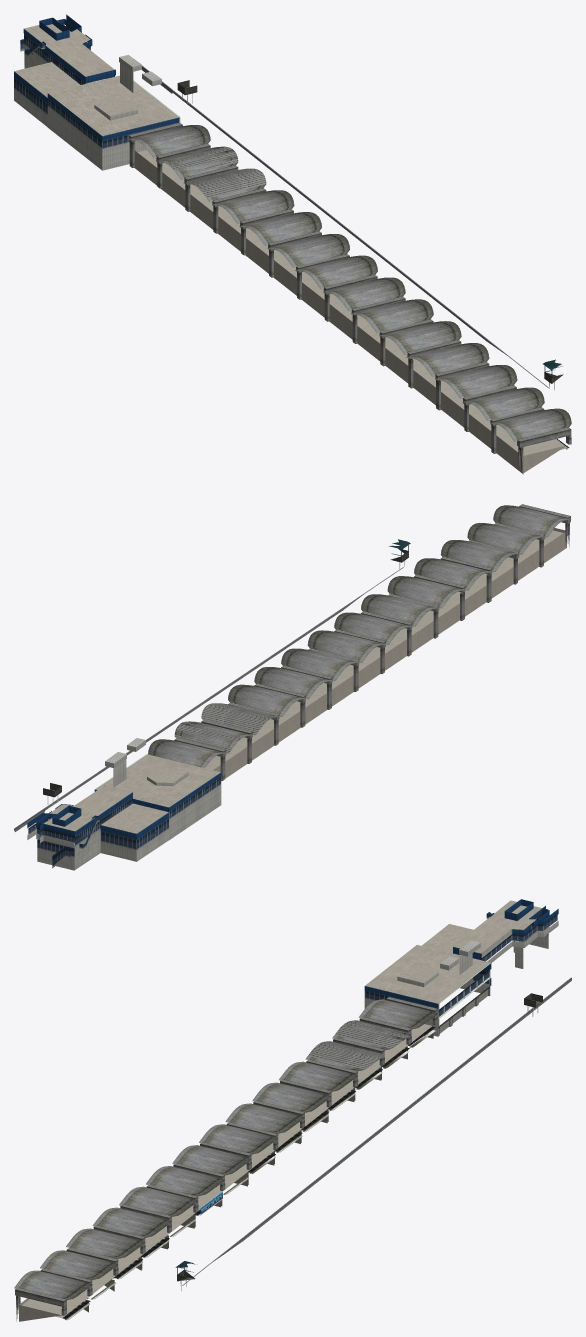
The model's file is pit_garages.glb.
The picture shows the model from 3 angles, top to bottom: view 1: azimuth 30°, elevation 25°; view 2: azimuth 150°, elevation 25°; view 3: azimuth 330°, elevation 25°; orthographic projection. The views are drawn at different scales.
Visible parts, largest first — view 1: pit_garages; view 2: pit_garages; view 3: pit_garages.
Boxes of the visible parts, <box> form: pit_garages: <box>14,14,571,474</box>; pit_garages: <box>14,504,571,870</box>; pit_garages: <box>14,899,571,1321</box>.
Size of the model in its own units: 42.34 by 25.37 by 269.
Materials: 12 (12 with a texture image).
